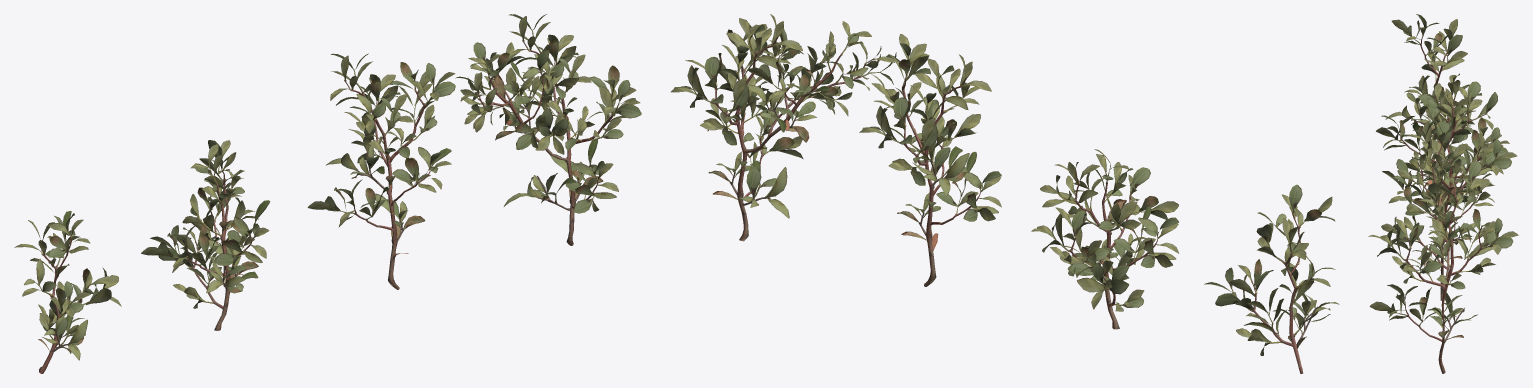
Rendered from shrub-04.glb.
3 views of the same model, side by side, from view 1: azimuth 30°, elevation 25°; view 2: azimuth 150°, elevation 25°; view 3: azimuth 270°, elevation 25° (orthographic). The views are drawn at different scales.
Parts seen in each view (by area): view 1: shrub_04; view 2: shrub_04; view 3: shrub_04.
Boxes of the visible parts, x1,y1,x2,y2 form: shrub_04: (14,14,641,373); shrub_04: (671,14,1339,373); shrub_04: (1368,14,1518,373).
Size of the model in its own units: 0.5835 by 0.2192 by 0.1461.
Materials: 1 (1 with a texture image).
